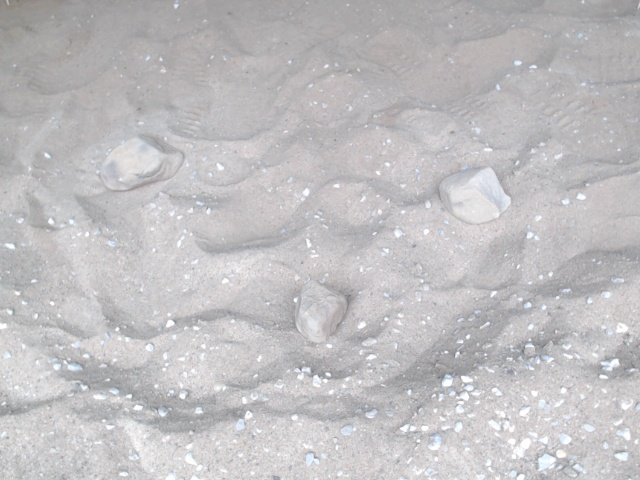rock: (95, 130, 188, 197), (434, 163, 516, 230), (289, 275, 353, 347)
